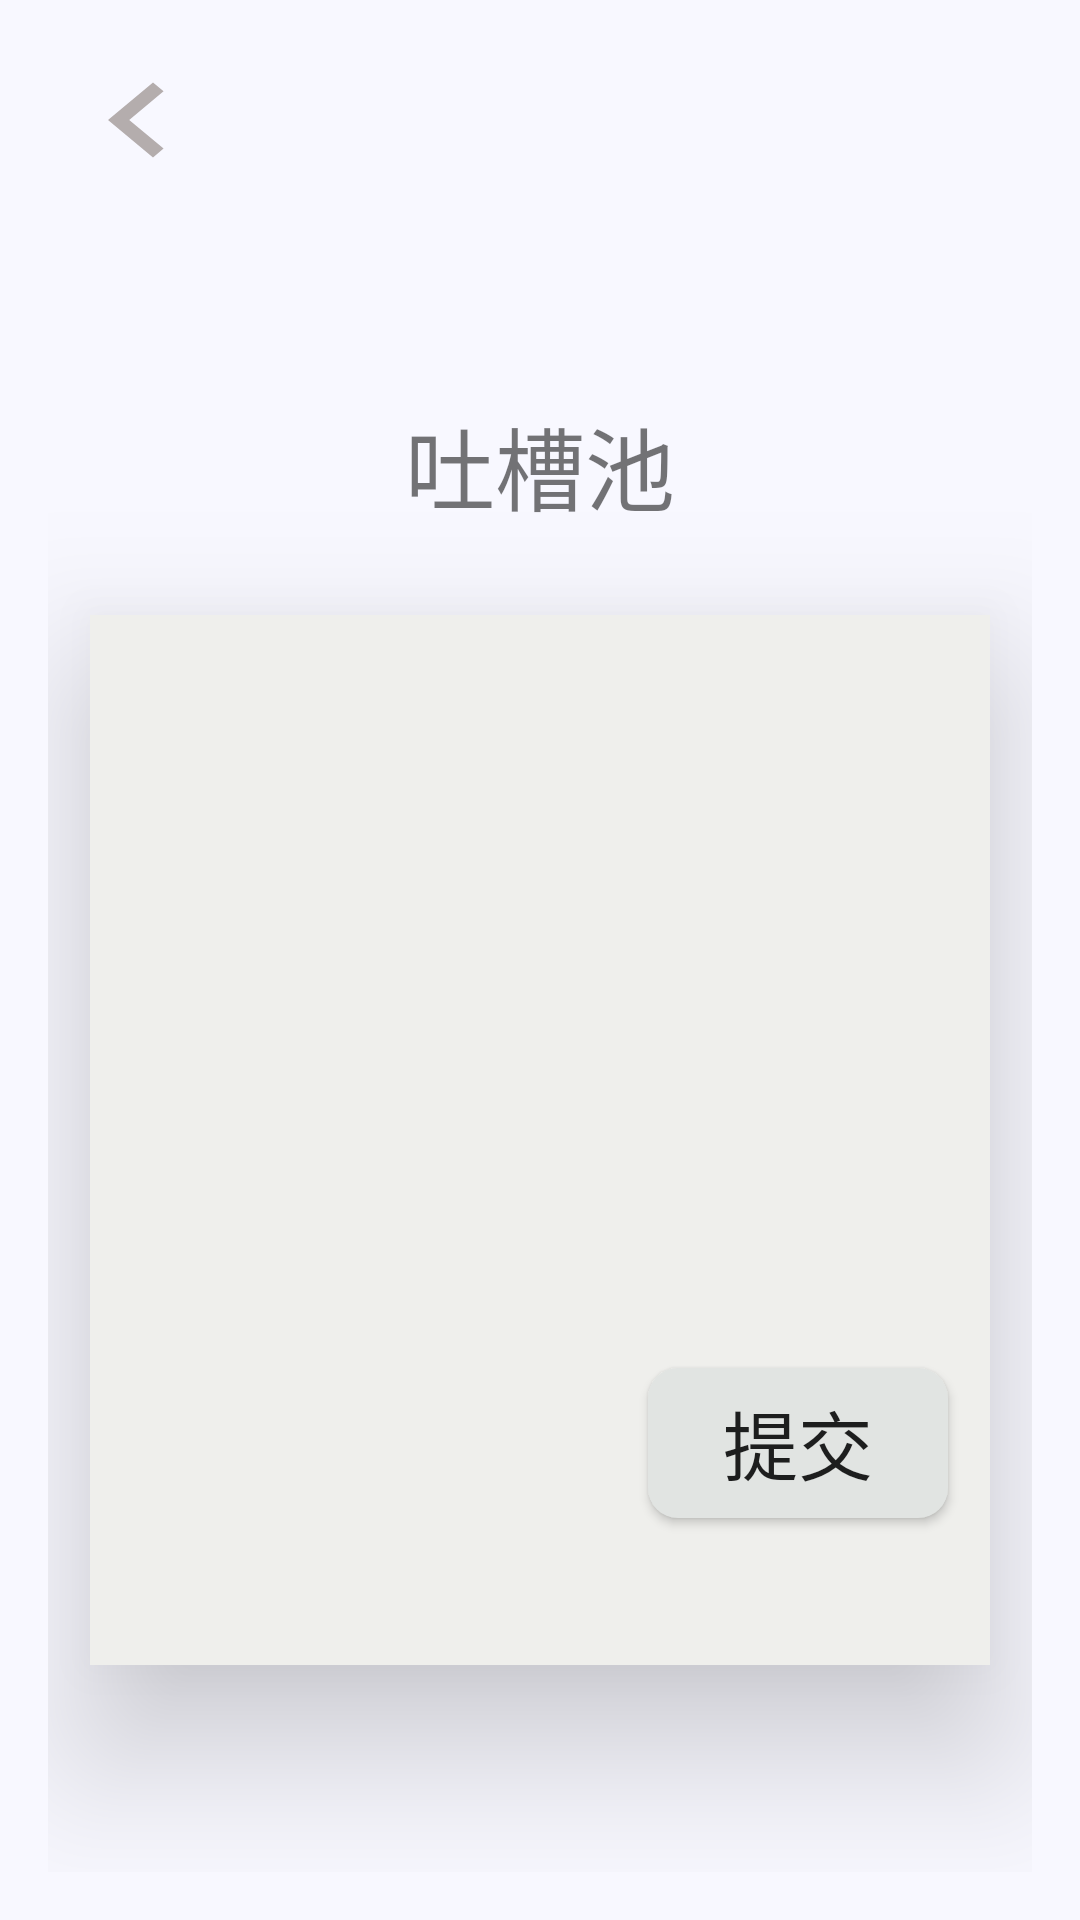

Named icons in this screenshot (1080*1920) and their bounding boxes, (x1, y1, x2, y2):
keyboard arrow left: (108, 83, 163, 157)
